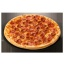pizza: (4, 13, 61, 51)
